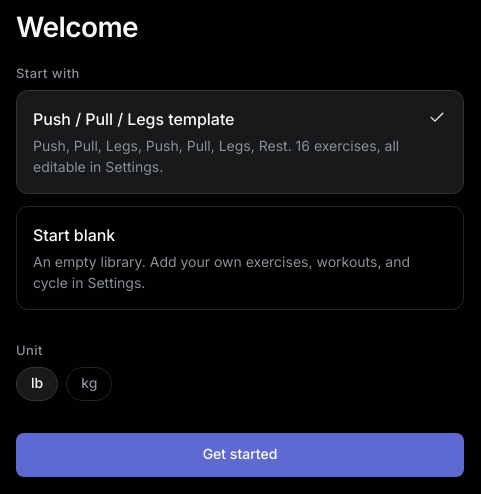
Test case: FirstRunScreen › template + kg seeds the section 7 template and sets the unit
Later steps or results of the test are not shown.
Click the radio button labelled "kg" at (89, 384), box 66,367 -> 112,401
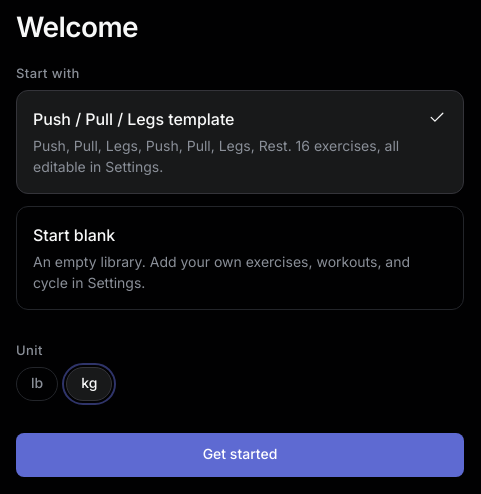
Check: the radio button labelled "kg" is checked, box 66,367 -> 112,401
